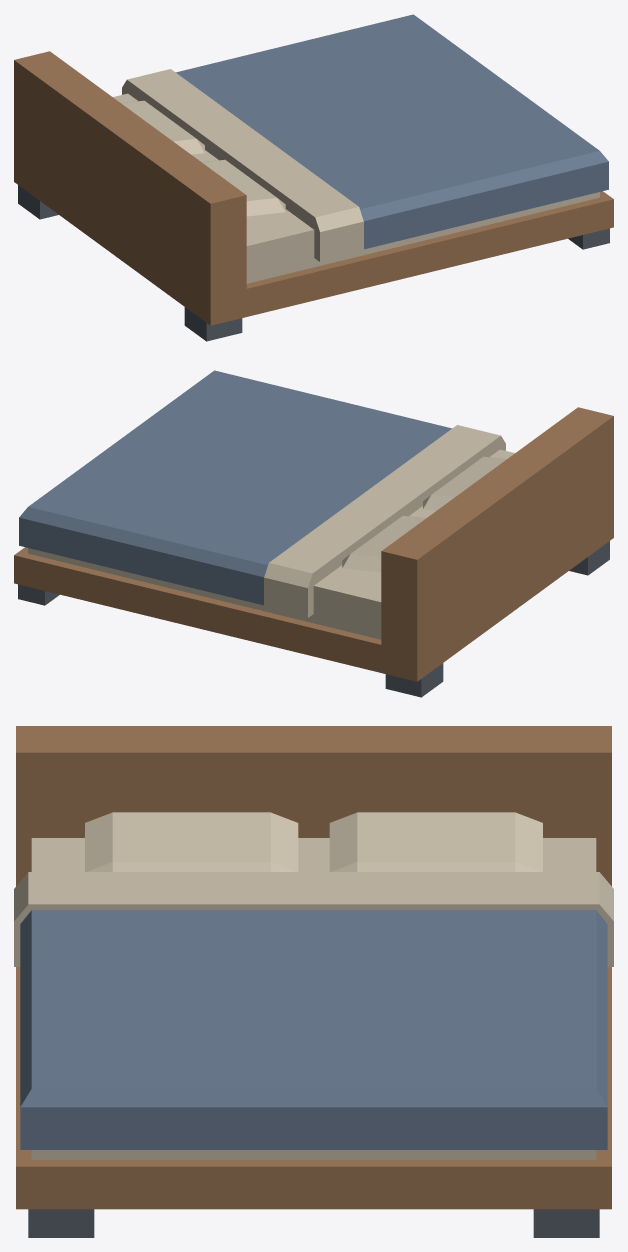
File: bed.dae
The picture shows the model from 3 angles, top to bottom: view 1: azimuth 30°, elevation 25°; view 2: azimuth 150°, elevation 25°; view 3: azimuth 270°, elevation 25°; orthographic projection. The views are drawn at different scales.
Visible parts, largest first — view 1: bed; view 2: bed; view 3: bed.
Part boxes in pixels (x1,y1,x2,y2): bed: (14, 14, 613, 341); bed: (14, 370, 613, 697); bed: (14, 726, 613, 1237).
Size of the model in its own units: 2.1 by 1.78 by 0.7.
